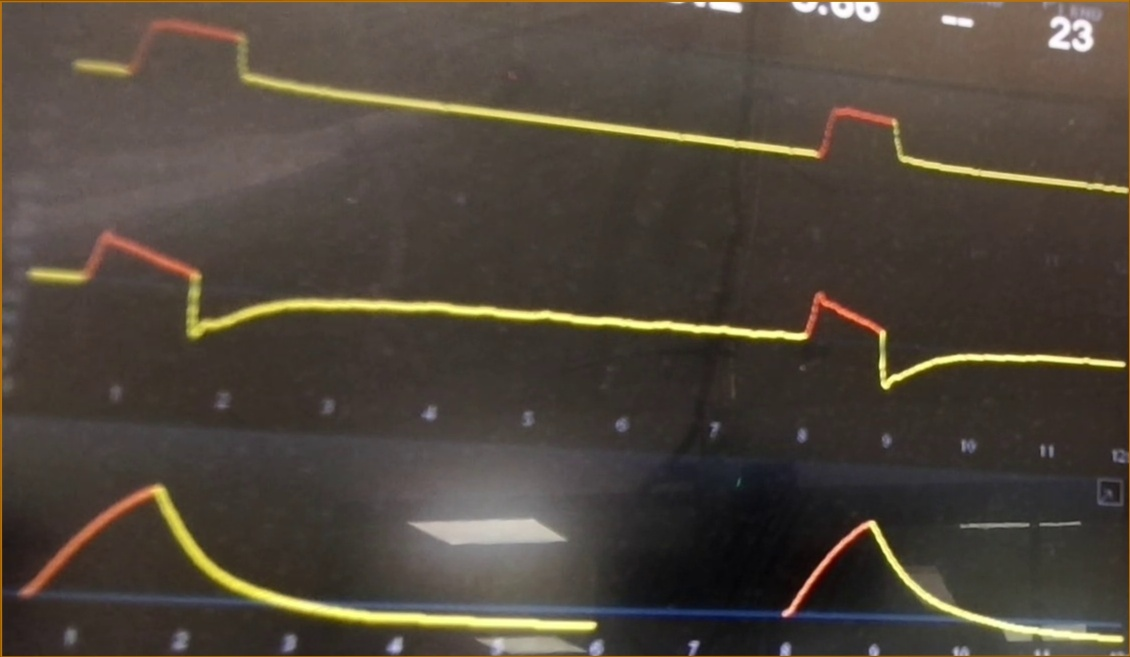Normal Flow: (29, 218, 1126, 394)
Normal Volume: (12, 463, 1130, 648)
